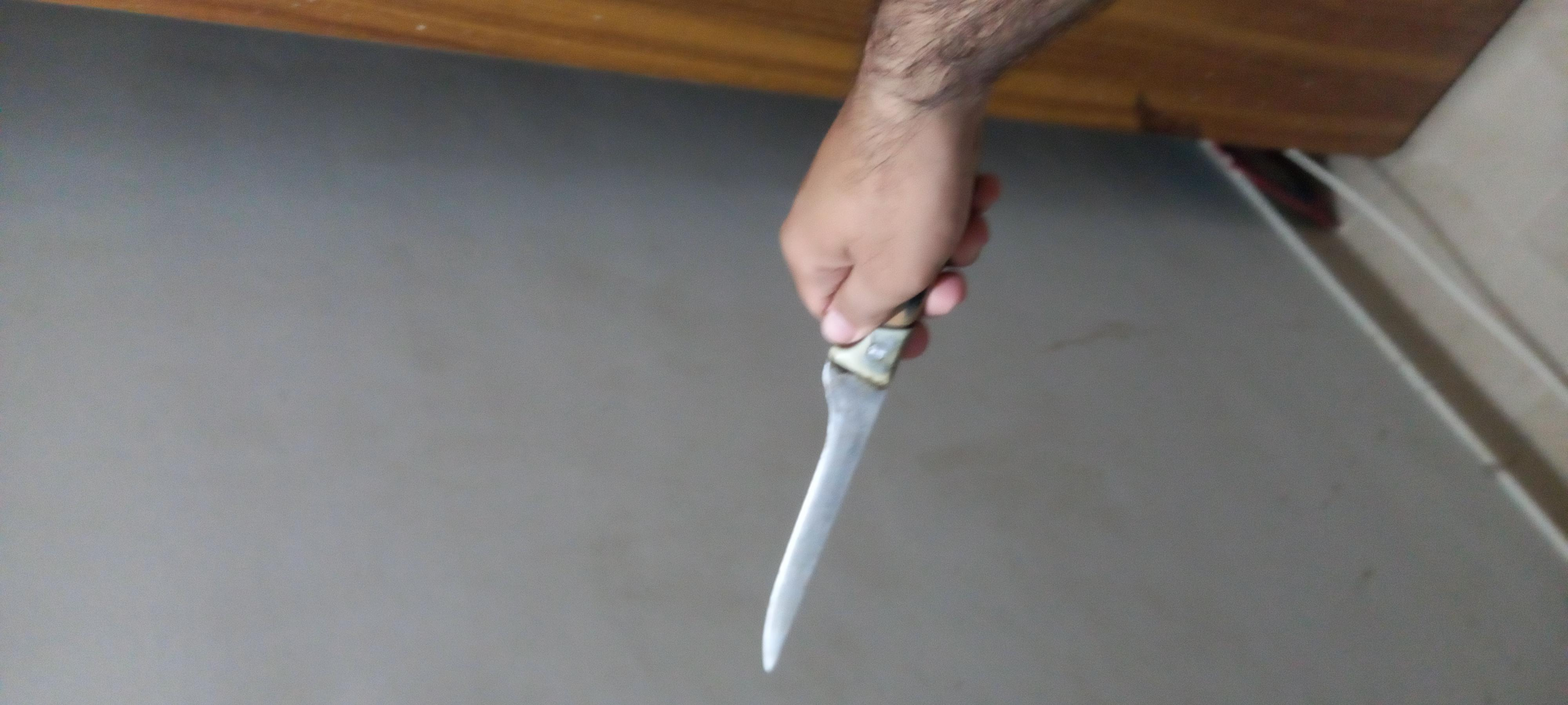knives: (27, 339, 1172, 452)
